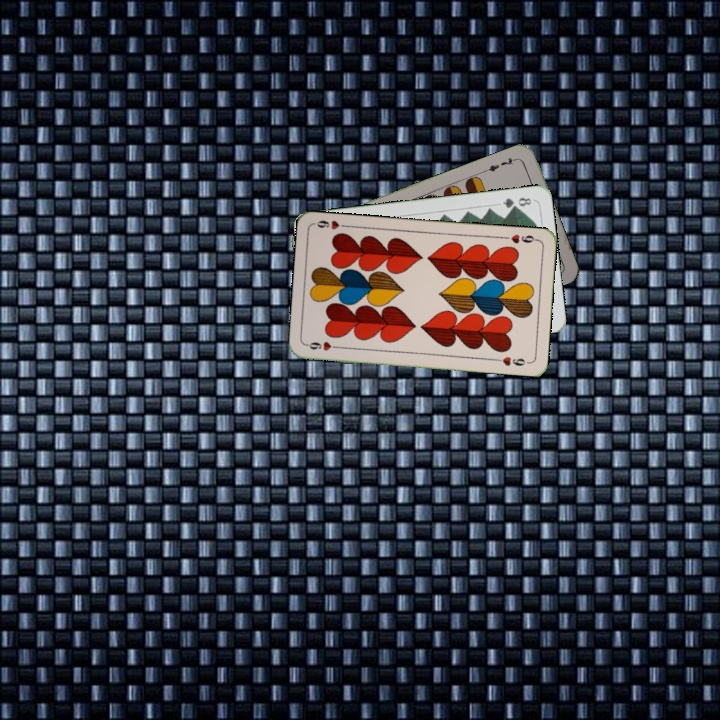E7: (481, 153, 520, 174)
G8: (499, 193, 534, 211)
H9: (303, 337, 344, 353), (500, 230, 540, 246)
